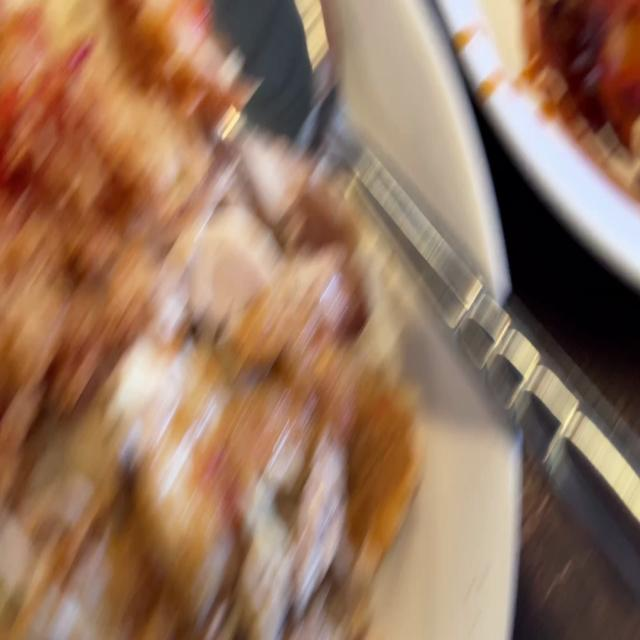chicken_rice: (109, 156, 390, 640)
